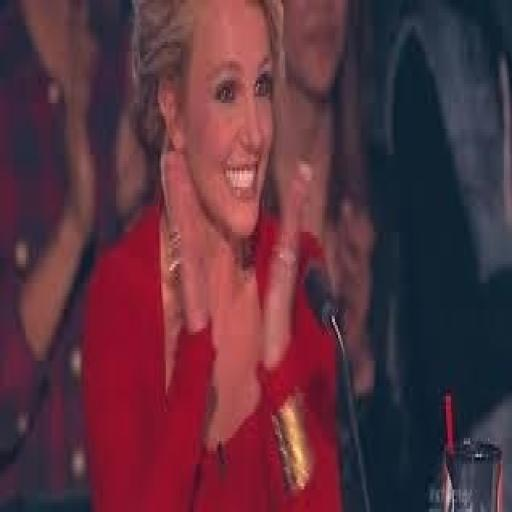clapping: (79, 0, 349, 509)
